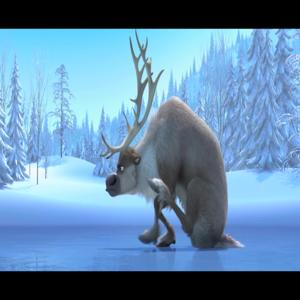sven: (88, 38, 251, 251)
